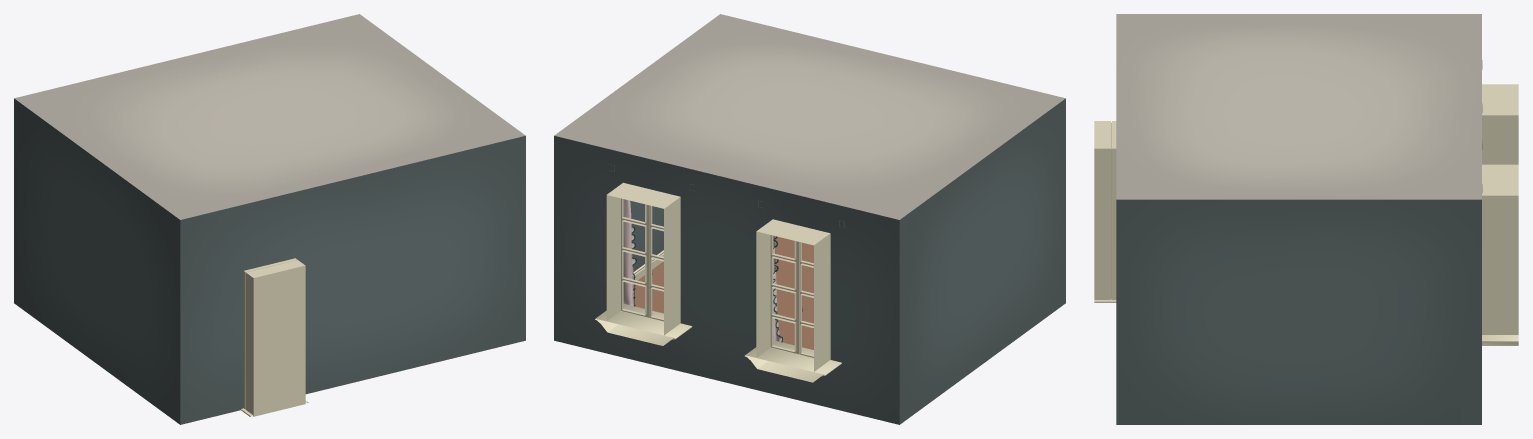
The model's file is Room_blockoutglb.glb.
3 renders of one model, left to right at view 1: azimuth 30°, elevation 25°; view 2: azimuth 150°, elevation 25°; view 3: azimuth 270°, elevation 25°, orthographic. The views are drawn at different scales.
Parts seen in each view (by area): view 1: Walls_Ceiling, Windows_Door_Trim; view 2: Walls_Ceiling, Windows_Door_Trim, Floor.001, Curtain.RR; view 3: Walls_Ceiling, Windows_Door_Trim.
Part boxes in pixels (x1,y1,x2,y2): Walls_Ceiling: (14, 14, 525, 424); Windows_Door_Trim: (240, 258, 308, 416); Walls_Ceiling: (554, 14, 1065, 424); Windows_Door_Trim: (595, 182, 841, 382); Floor.001: (634, 237, 813, 349); Curtain.RR: (623, 199, 636, 306); Walls_Ceiling: (1116, 14, 1481, 424); Windows_Door_Trim: (1094, 84, 1518, 345).
Bounding box in the file's own units: 6 × 3.4 × 5.8.
Materials: 5 (2 with a texture image).
